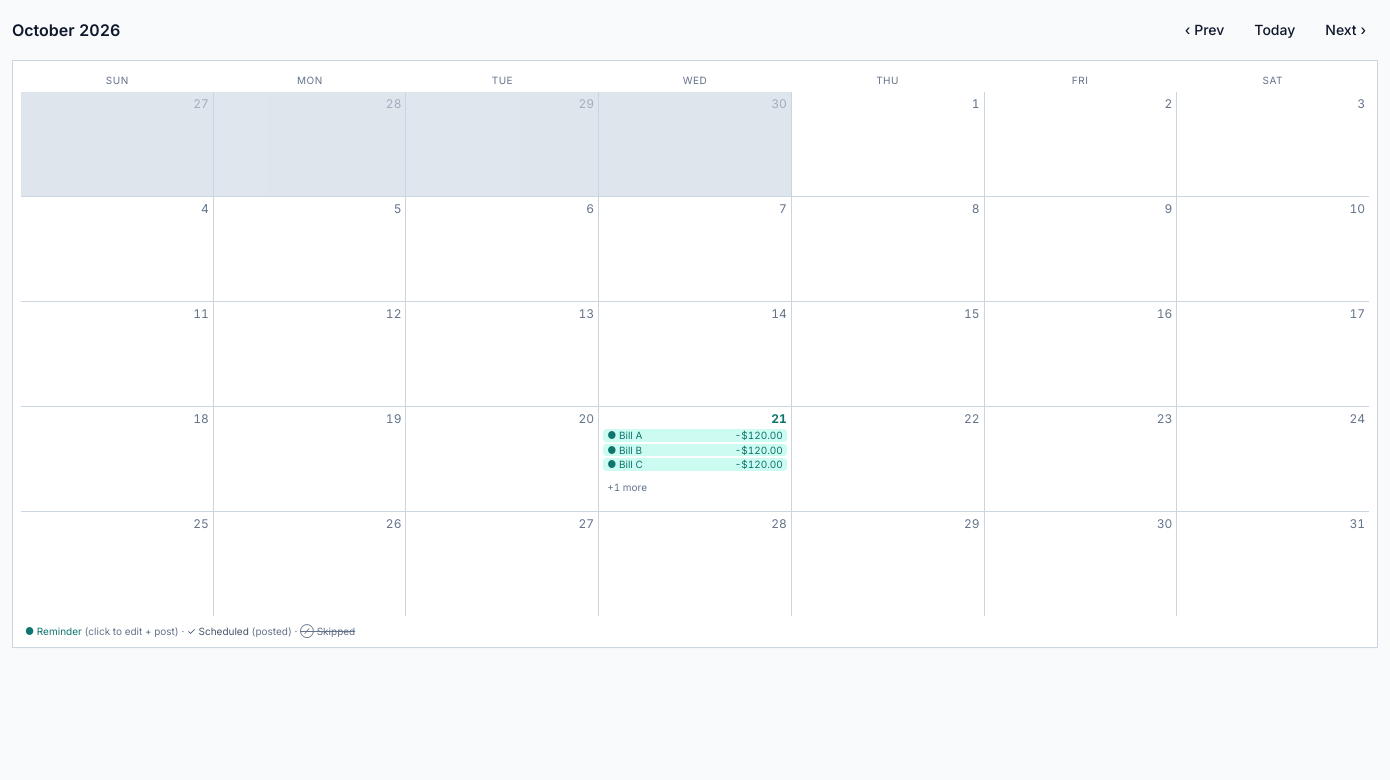
Scenario: RemindersUpcomingPanel › caps chips at 3 and reveals the rest via "+N more"
Expected: the button "● Bill A -$120.00" is shown, [603,429,787,442]
Expected: the button "Bill D" is not shown
Click the button "+1 more".
click(695, 487)  # box [603,480,787,494]
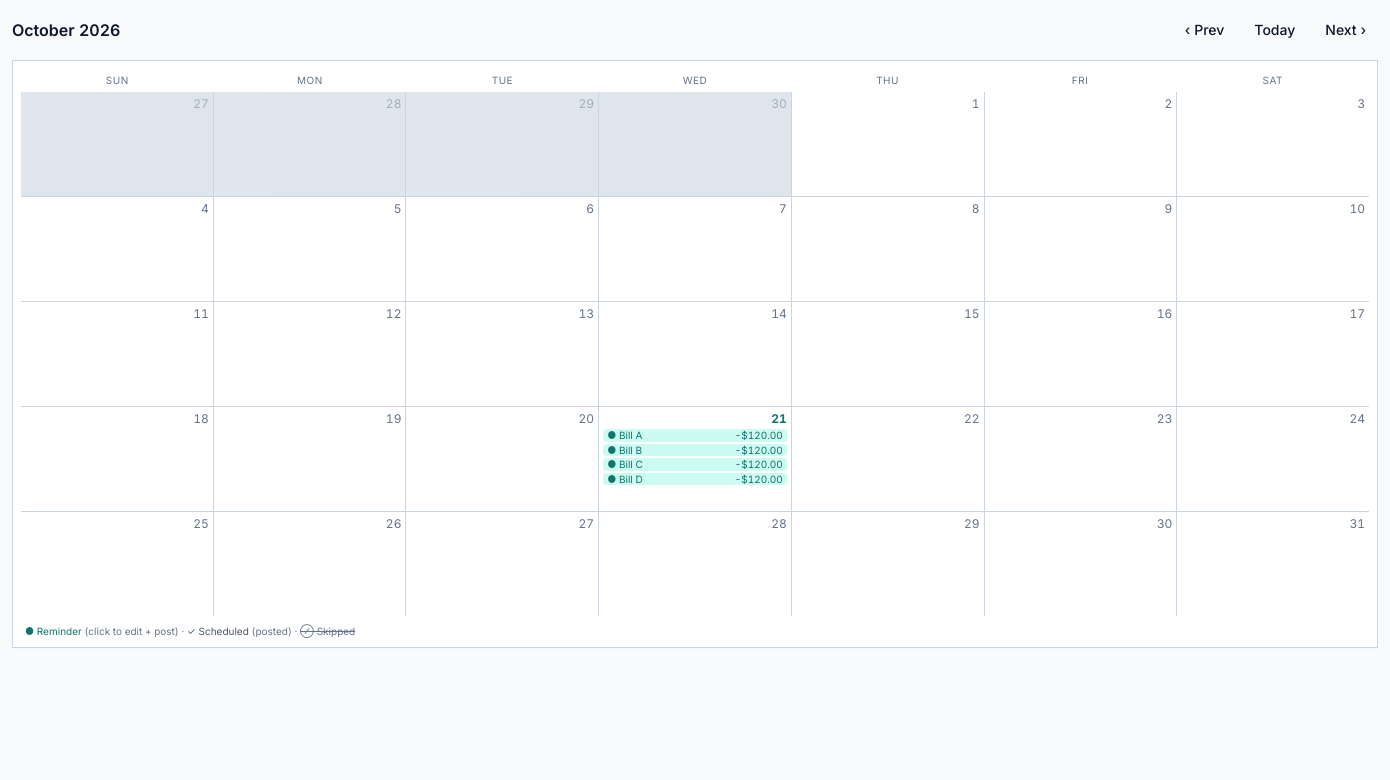
Expected: the button "● Bill D -$120.00" is shown, [603,472,787,485]
